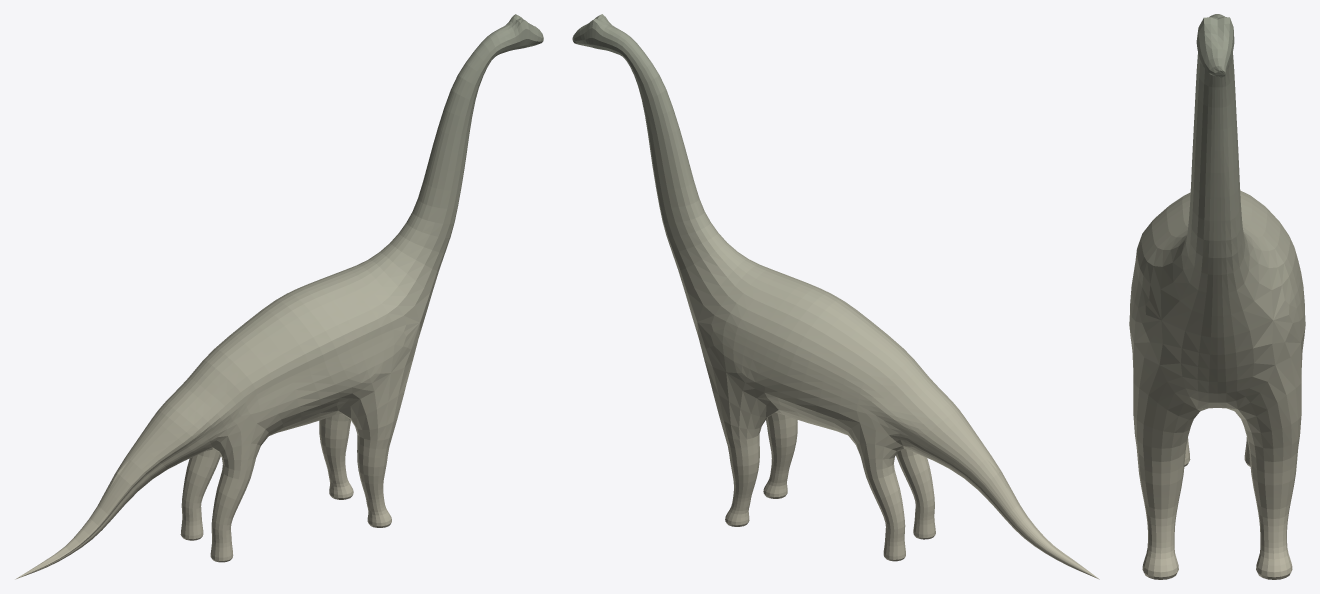
Rendered from brontosaurus.glb.
3 renders of one model, left to right at view 1: azimuth 30°, elevation 25°; view 2: azimuth 150°, elevation 25°; view 3: azimuth 270°, elevation 25°, orthographic. The views are drawn at different scales.
Parts seen in each view (by area): view 1: Cylinder.002; view 2: Cylinder.002; view 3: Cylinder.002.
Boxes of the visible parts, <box> form: Cylinder.002: <box>15,14,543,579</box>; Cylinder.002: <box>572,14,1099,579</box>; Cylinder.002: <box>1129,14,1305,579</box>.
Bounding box in the file's own units: 23.09 × 19.03 × 4.52.
